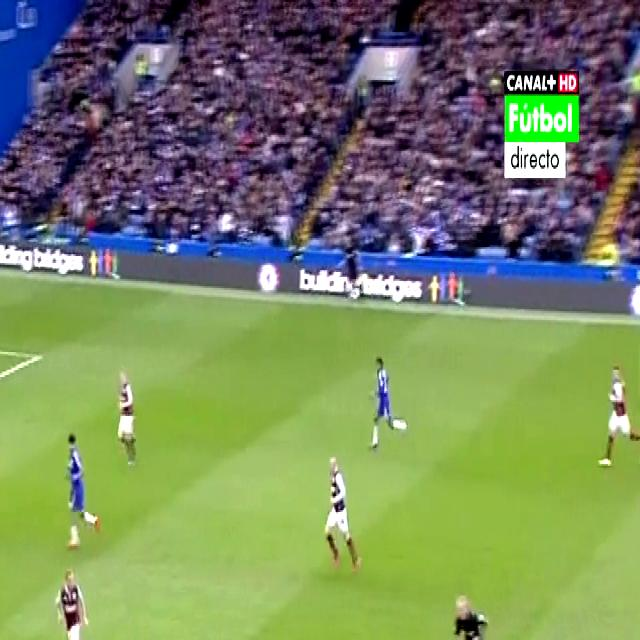referee: (442, 572, 494, 640), (329, 231, 369, 306)
soccer-player: (316, 445, 364, 579), (59, 418, 107, 548), (595, 349, 638, 476), (363, 344, 410, 451), (52, 558, 104, 640), (108, 358, 145, 470)
